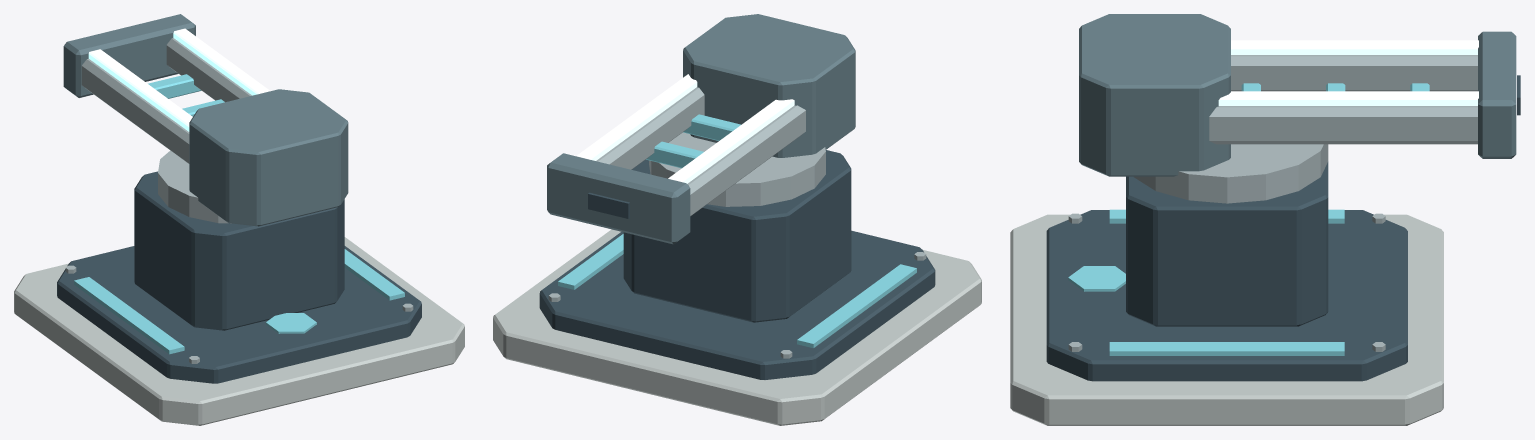
The model's file is battery.glb.
3 views of the same model, side by side, from view 1: azimuth 30°, elevation 25°; view 2: azimuth 150°, elevation 25°; view 3: azimuth 270°, elevation 25° (orthographic). The views are drawn at different scales.
Parts seen in each view (by area): view 1: asset_battery__FP_Dark, turret__FP_Armour, foundation, turret__FP_Steel, turret__FP_Signal, asset_battery__FP_Team, asset_battery__FP_Steel, turret__FP_Team, Hexagon; view 2: asset_battery__FP_Dark, turret__FP_Armour, foundation, turret__FP_Steel, asset_battery__FP_Steel, turret__FP_Signal, asset_battery__FP_Team, turret__FP_Team, bore; view 3: asset_battery__FP_Dark, foundation, turret__FP_Armour, turret__FP_Steel, asset_battery__FP_Steel, turret__FP_Signal, asset_battery__FP_Team, Hexagon, turret__FP_Team.
Part boxes in pixels (box(x1,y1,x2,y2)): asset_battery__FP_Dark: box(57, 171, 421, 383); turret__FP_Armour: box(63, 14, 348, 226); foundation: box(14, 237, 464, 425); turret__FP_Steel: box(81, 38, 251, 163); turret__FP_Signal: box(88, 28, 270, 131); asset_battery__FP_Team: box(74, 249, 404, 354); asset_battery__FP_Steel: box(65, 150, 413, 363); turret__FP_Team: box(148, 74, 224, 116); Hexagon: box(266, 313, 316, 333); asset_battery__FP_Dark: box(539, 150, 935, 379); turret__FP_Armour: box(547, 14, 855, 244); foundation: box(493, 229, 981, 425); turret__FP_Steel: box(596, 87, 805, 216); asset_battery__FP_Steel: box(548, 132, 926, 358); turret__FP_Signal: box(576, 74, 794, 183); asset_battery__FP_Team: box(558, 234, 916, 348); turret__FP_Team: box(646, 114, 740, 168); bore: box(588, 192, 629, 218); asset_battery__FP_Dark: box(1046, 161, 1407, 381); foundation: box(1010, 214, 1443, 425); turret__FP_Armour: box(1079, 14, 1516, 176); turret__FP_Steel: box(1209, 55, 1477, 144); asset_battery__FP_Steel: box(1068, 144, 1385, 351); turret__FP_Signal: box(1218, 40, 1478, 105); asset_battery__FP_Team: box(1109, 209, 1344, 355); Hexagon: box(1068, 266, 1125, 291); turret__FP_Team: box(1241, 83, 1429, 91).
Size of the model in its own units: 1.8 by 1.31 by 2.12.
